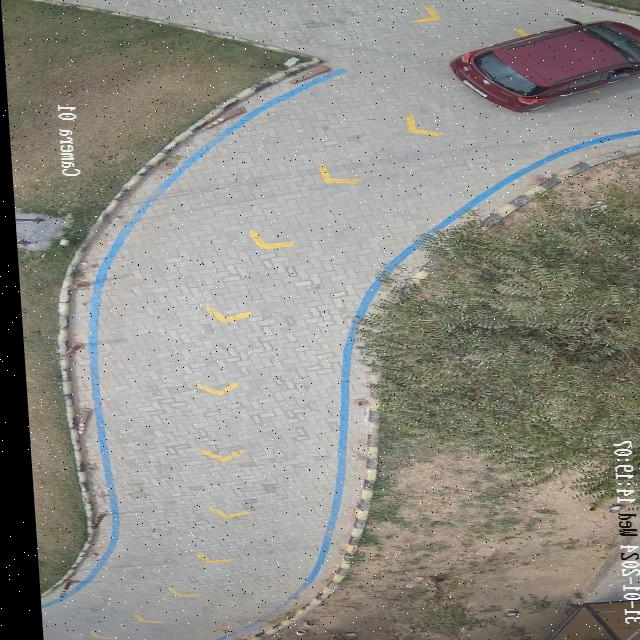car: (449, 19, 640, 112)
